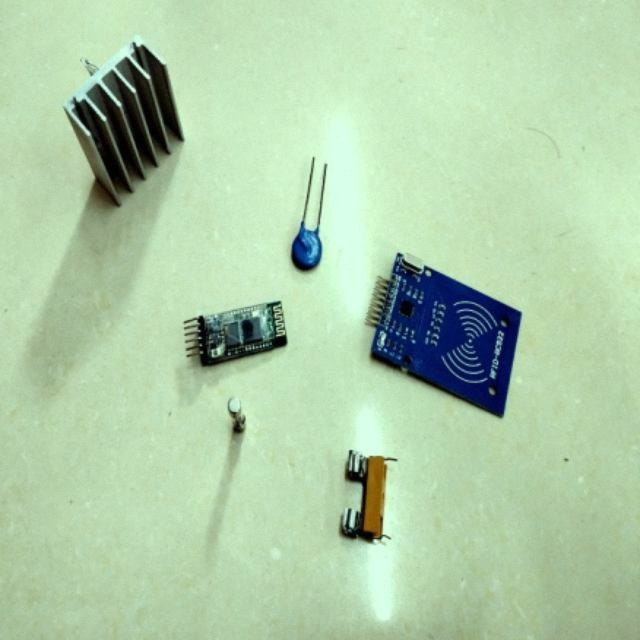capacitor: (292, 229, 322, 271)
